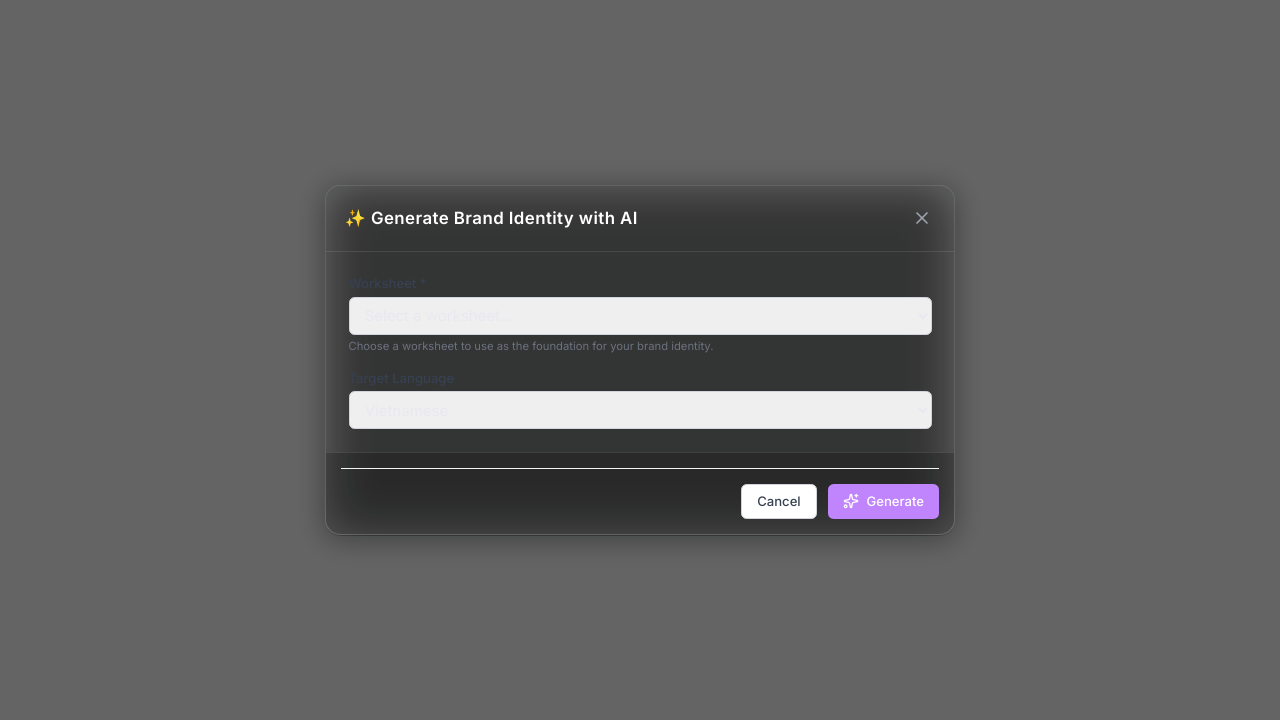
Test: BrandIdentityAIModal › enables generate button when worksheet is selected
The width and height of the screenshot is (1280, 720).
Select "Worksheet 1" in the dropdown below "Worksheet *" at (640, 316), box x1=348 y1=297 x2=932 y2=335
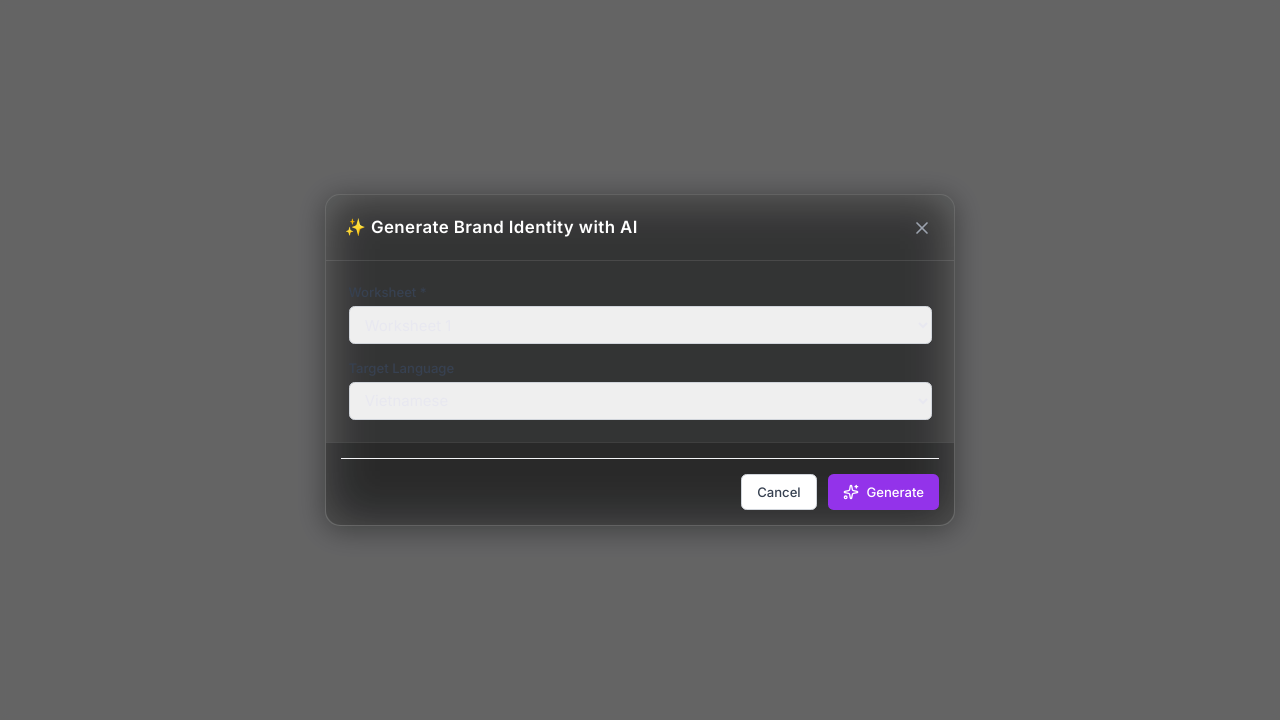
Check: the button "Generate" is enabled, box x1=828 y1=474 x2=939 y2=510
